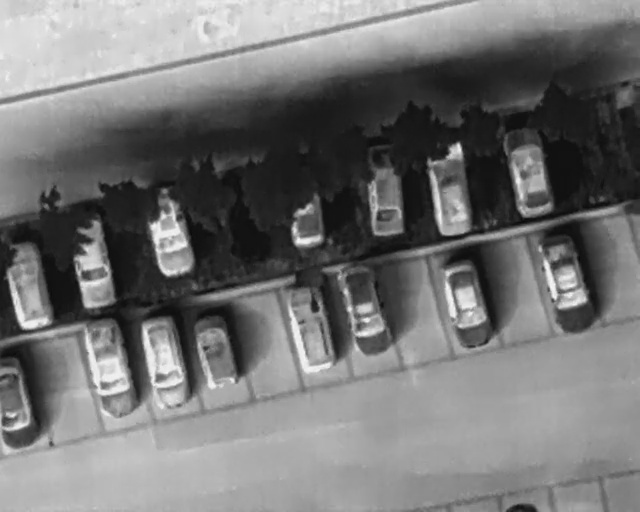Car: (529, 227, 601, 336), (80, 314, 144, 423), (420, 135, 478, 237), (498, 119, 556, 221), (137, 314, 197, 412), (139, 185, 200, 280), (334, 264, 394, 360), (436, 256, 496, 352), (281, 280, 341, 374), (0, 237, 56, 333), (66, 213, 117, 311), (188, 311, 243, 393), (362, 147, 405, 237), (0, 354, 38, 446), (285, 180, 329, 250)
